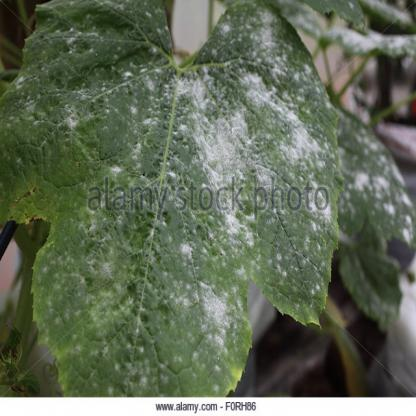squash powdery mildew leaf: (1, 3, 351, 402)
